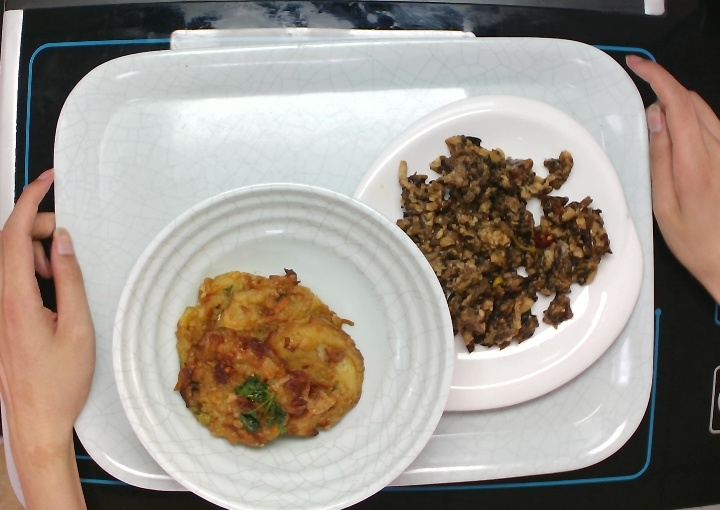JYsf-Da_Tang_Wan: (105, 175, 462, 510)
JYsf-Mian_Pan: (336, 89, 648, 416)
